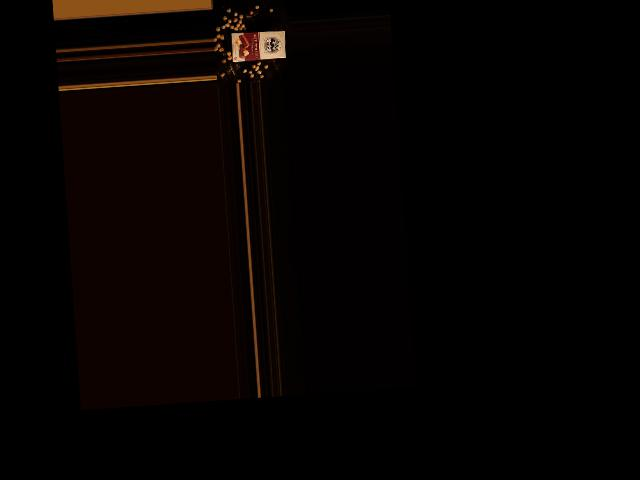chocolate: (228, 26, 288, 63)
